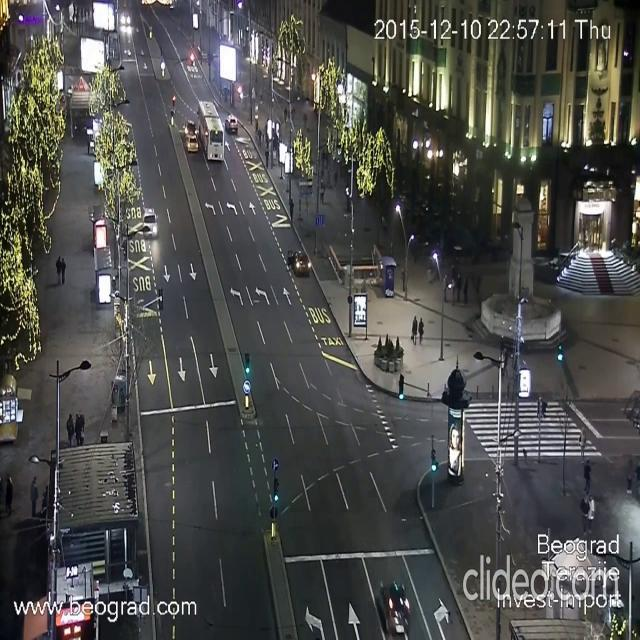bus: (197, 100, 224, 162)
car: (379, 577, 409, 630), (142, 207, 158, 237), (289, 249, 311, 270), (225, 113, 238, 133), (186, 124, 194, 150)
